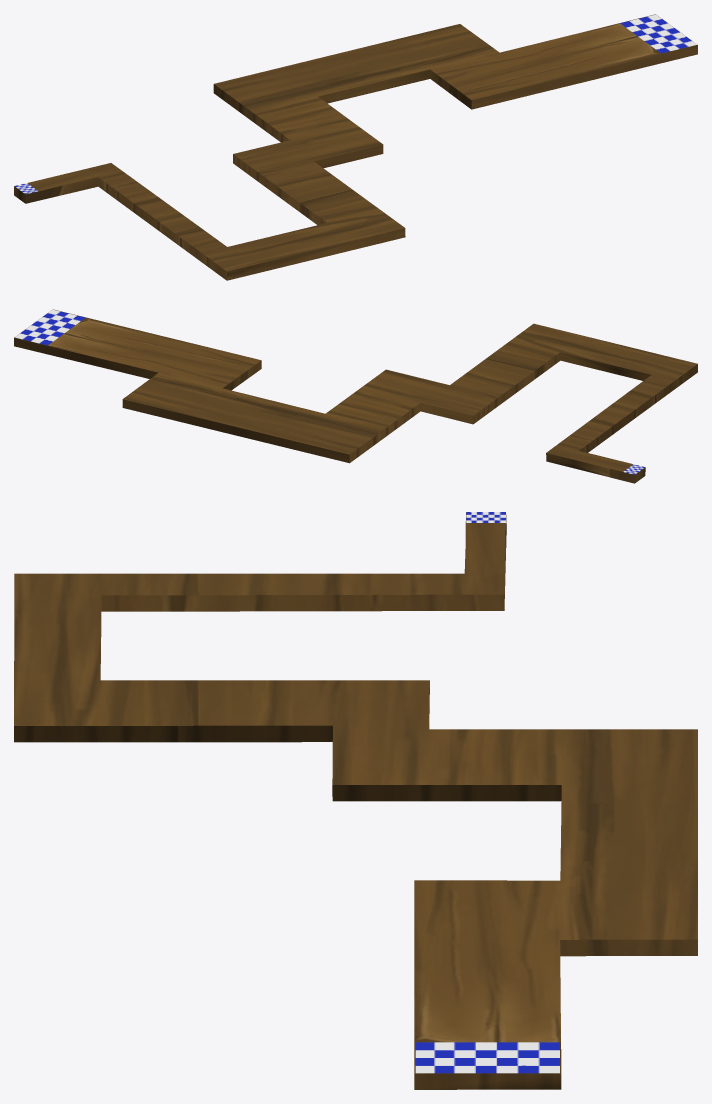
The model's file is niveau 2 projet 3D.FBX.
3 renders of one model, top to bottom at view 1: azimuth 30°, elevation 25°; view 2: azimuth 150°, elevation 25°; view 3: azimuth 270°, elevation 25°, orthographic. The views are drawn at different scales.
Visible parts, largest first — view 1: Box001, Plane001; view 2: Box001, Plane001; view 3: Box001, Plane001.
Part boxes in pixels (x1=…): Box001: x1=14, y1=14, x2=697, y2=280; Plane001: x1=620, y1=14, x2=696, y2=53; Box001: x1=14, y1=309, x2=697, y2=483; Plane001: x1=15, y1=309, x2=85, y2=345; Box001: x1=14, y1=512, x2=697, y2=1089; Plane001: x1=415, y1=1042, x2=559, y2=1073.
Size of the model in its own units: 3785 by 52.43 by 1950.
Materials: 2 (2 with a texture image).
